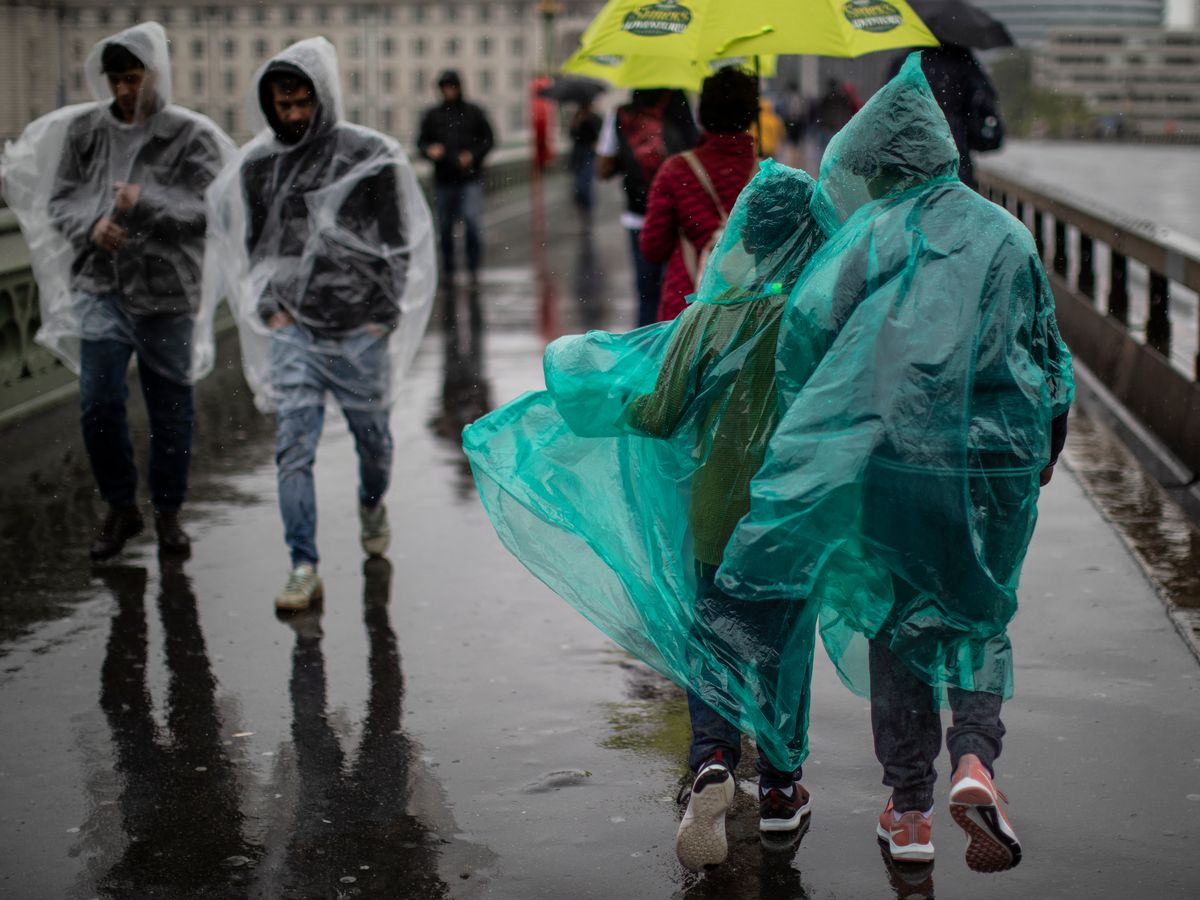person: (835, 101, 1065, 874), (230, 52, 409, 612)
